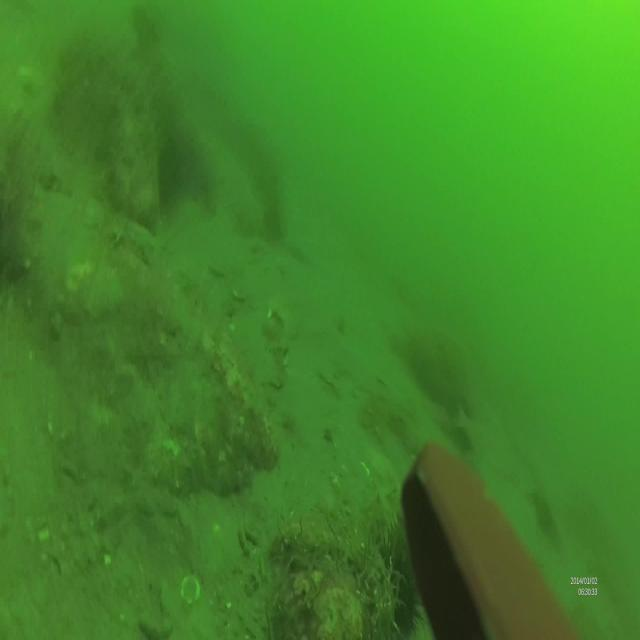echinus: (371, 515, 425, 640)
